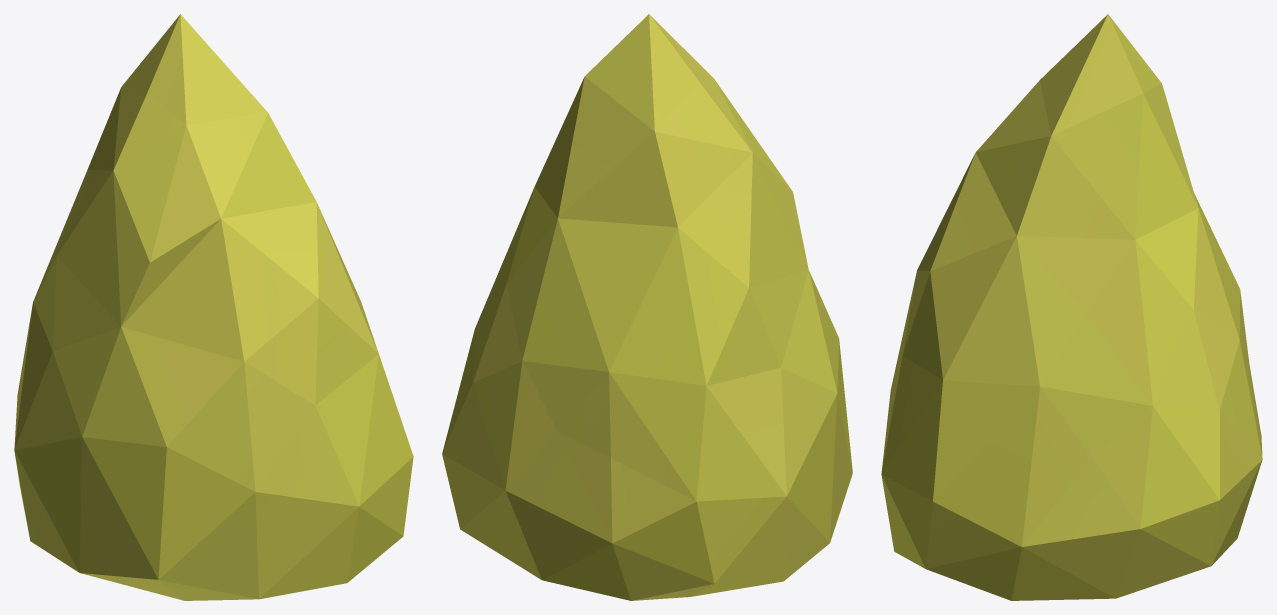
File: bush3.fbx
3 views of the same model, side by side, from view 1: azimuth 30°, elevation 25°; view 2: azimuth 150°, elevation 25°; view 3: azimuth 270°, elevation 25° (orthographic). The views are drawn at different scales.
Visible parts, largest first — view 1: Roundcube.005; view 2: Roundcube.005; view 3: Roundcube.005.
Boxes of the visible parts, left/top/right/bottom form: Roundcube.005: left=14, top=14, right=413, bottom=600; Roundcube.005: left=442, top=14, right=852, bottom=600; Roundcube.005: left=881, top=14, right=1262, bottom=600.
Size of the model in its own units: 295 by 465 by 297.
